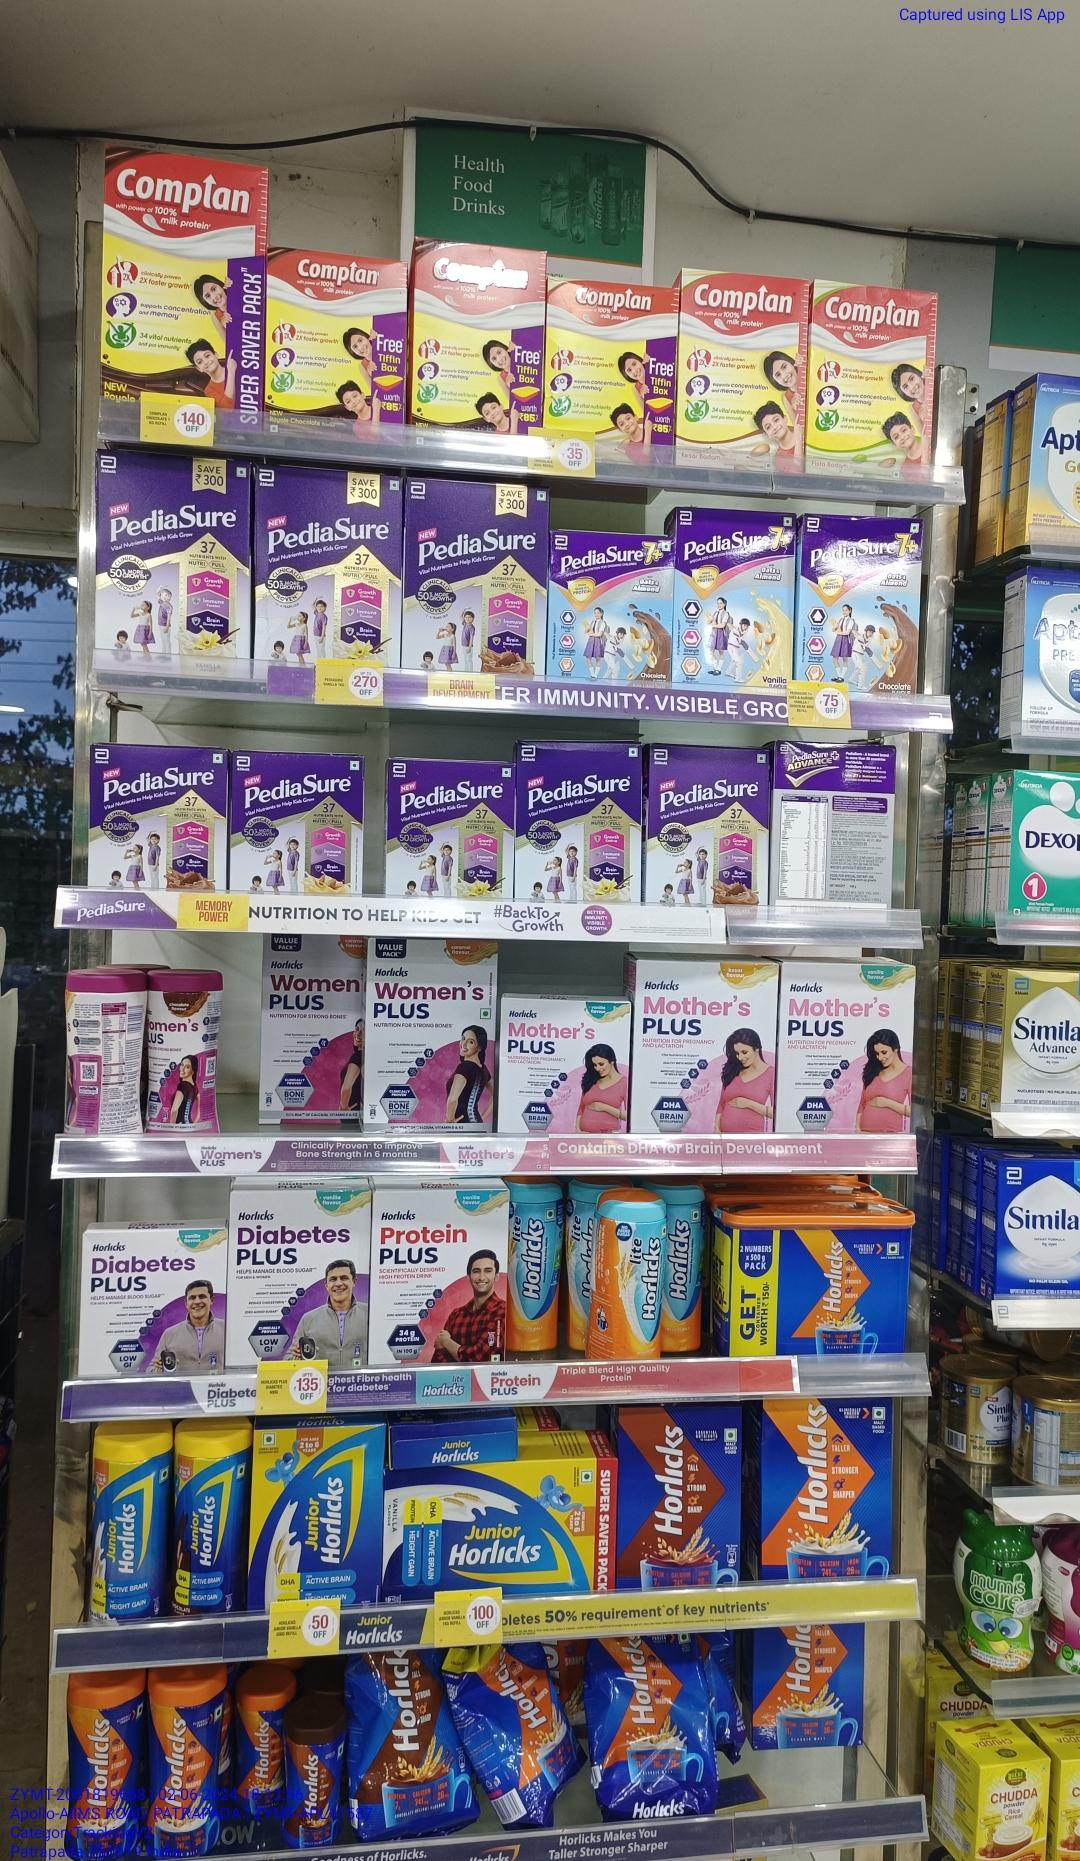HORLICKS_JUNIOR_VANILLA_500_GM_JAR: (84, 1430, 161, 1628), (172, 1428, 247, 1619)
HORLICKS_LITE_REGULAR_MALT_500_GM_JAR: (593, 1185, 663, 1362), (505, 1181, 563, 1356), (670, 1193, 708, 1351)
PEDIASURE_7_PLUS_CHOCOLATE_400_G_PACK: (552, 530, 672, 699)
PEDIASURE_CHOCOLATE_500_G_PACK: (648, 742, 770, 924), (89, 742, 225, 893)
PEDIASURE_VANILLA_500_G_PACK: (514, 740, 640, 904), (233, 749, 365, 898), (387, 760, 510, 901)
